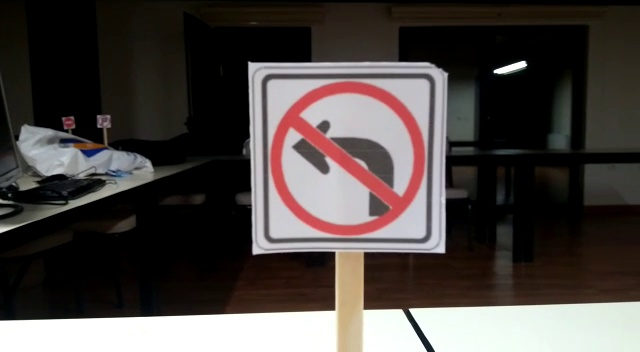sola_donulmez: (258, 68, 435, 245)
